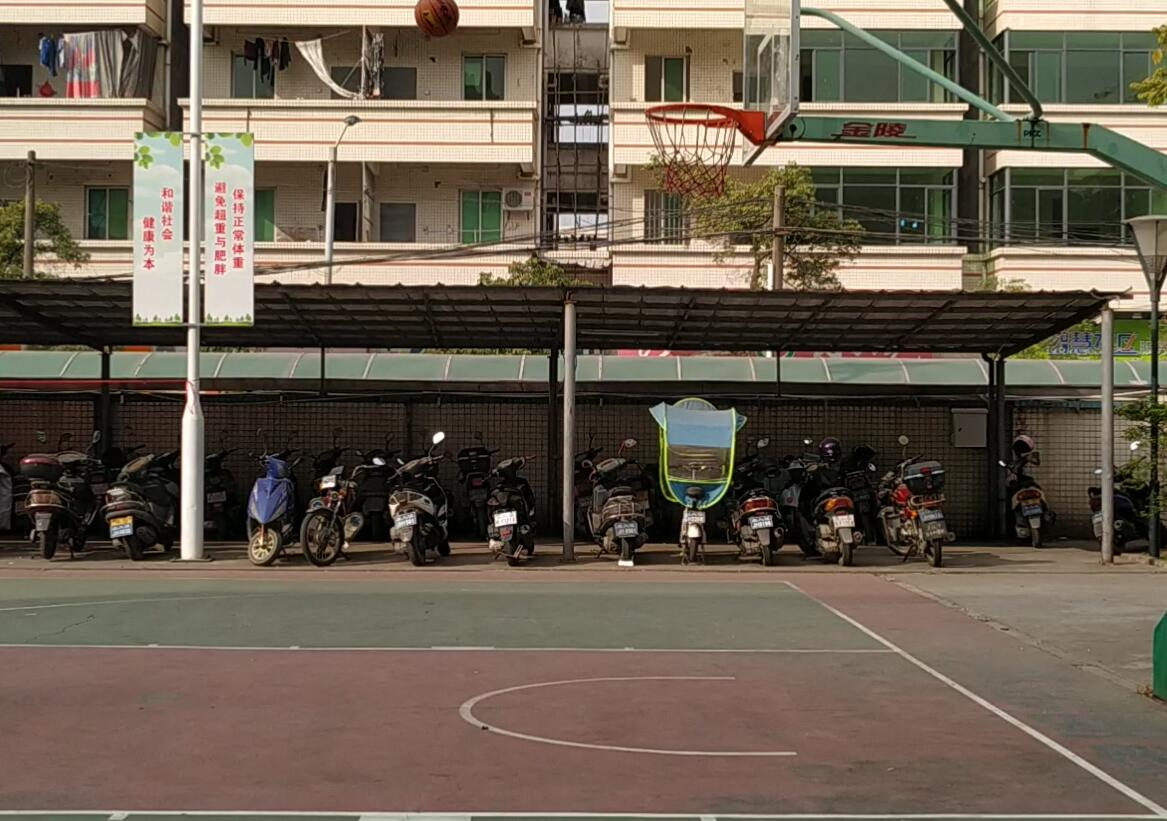basketball: (406, 1, 467, 36)
